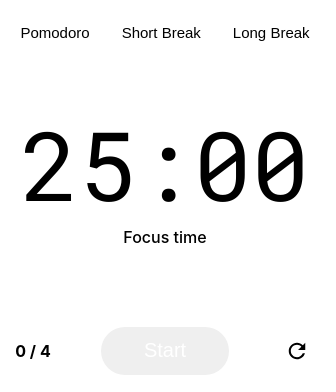
Test: <Layout /> › setups long break interval when button is clicked
The width and height of the screenshot is (336, 392).
Step 1. Click the button "Long Break" → (271, 32), box [225,12,318,52]
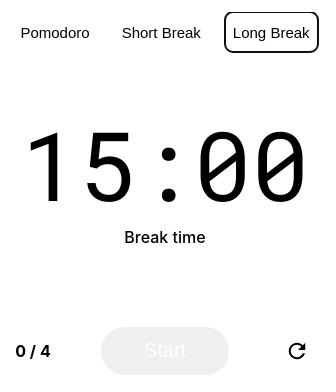
Now the text with test id "timer" reads "15:00", box [21,100,309,227]
Now the text with test id "timer-title" reads "Break time", box [124,227,206,247]
